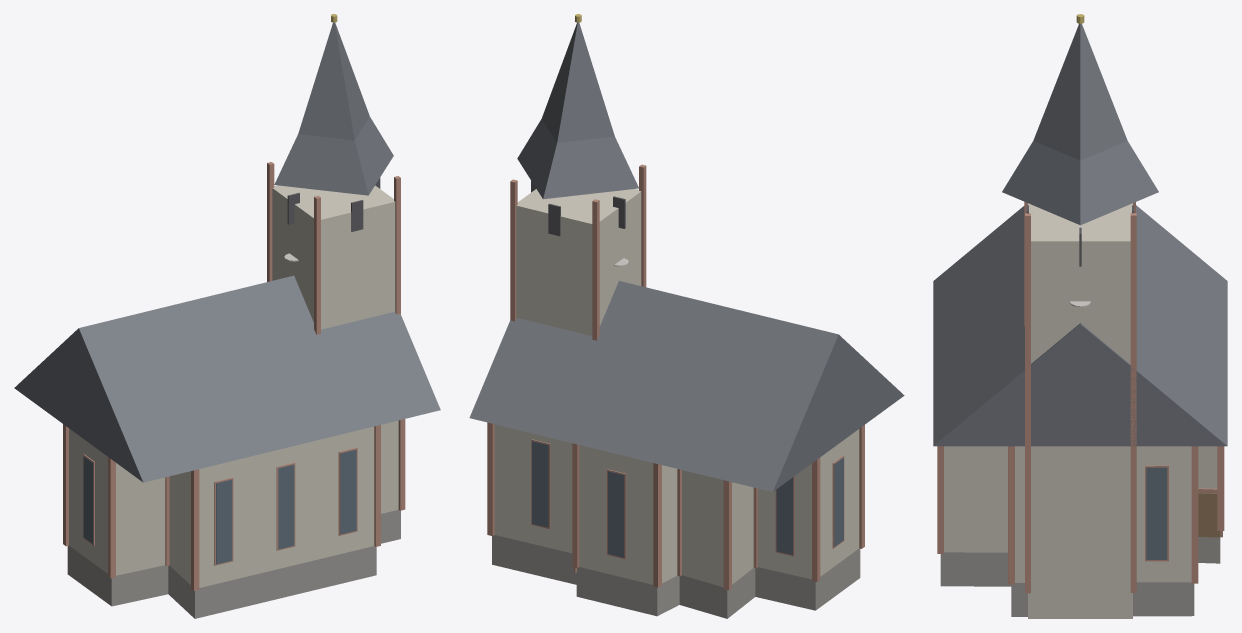
File: landmark-church-matthiaskirche.glb
The picture shows the model from 3 angles, left to right: view 1: azimuth 30°, elevation 25°; view 2: azimuth 150°, elevation 25°; view 3: azimuth 270°, elevation 25°; orthographic projection. The views are drawn at different scales.
Visible parts, largest first — view 1: building; view 2: building; view 3: building.
Boxes of the visible parts, bbox=[...] form: building: bbox=[14, 14, 440, 618]; building: bbox=[469, 14, 904, 618]; building: bbox=[933, 14, 1227, 618].
Size of the model in its own units: 27.65 by 42.8 by 19.65.
